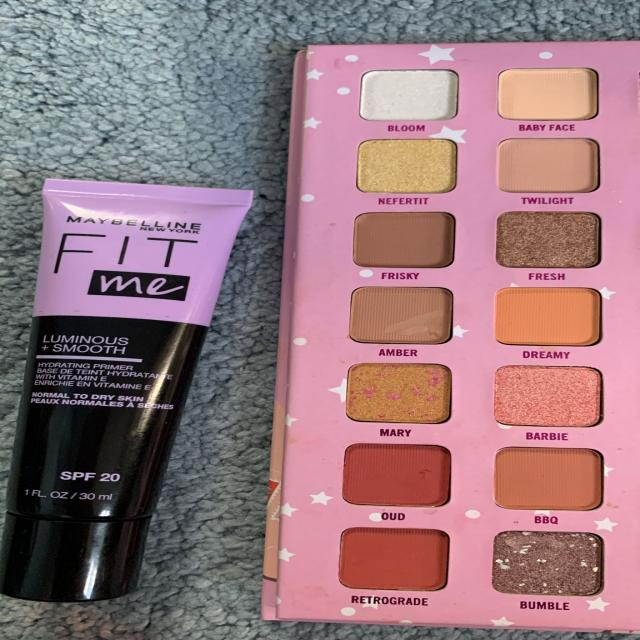bronzer: (329, 135, 630, 351)
eye shade: (329, 357, 624, 624)
powder: (326, 55, 632, 135)
primer: (0, 169, 276, 620)
